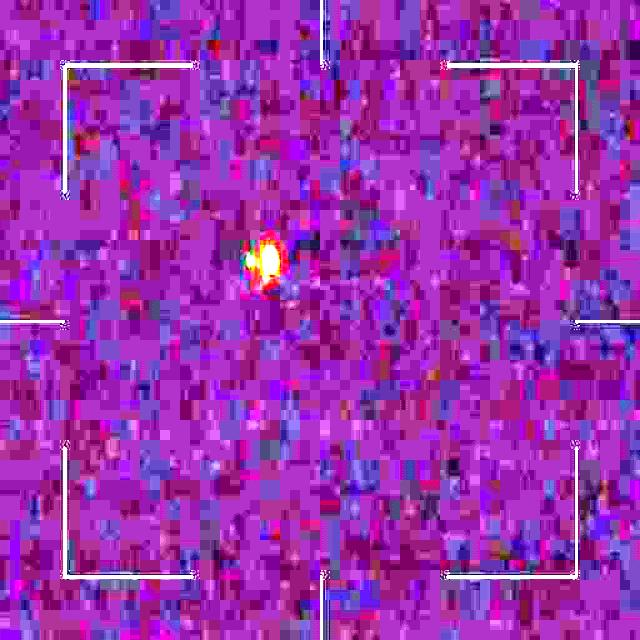bird: (245, 239, 280, 290)
